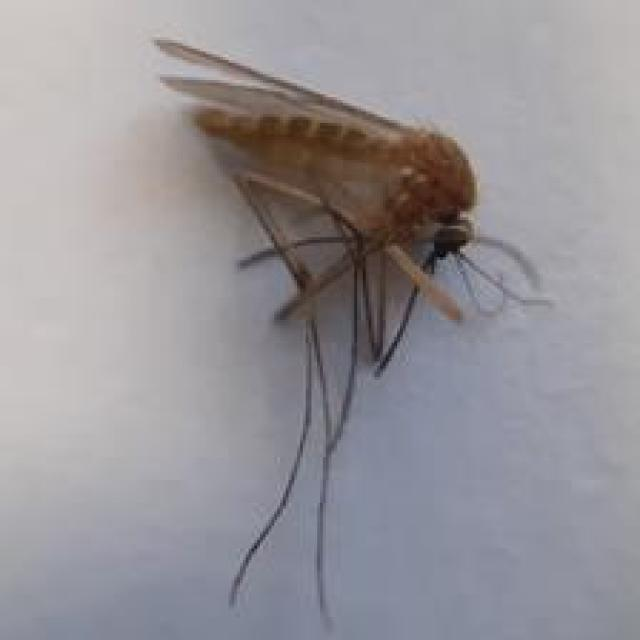Culex: (150, 34, 556, 632)
